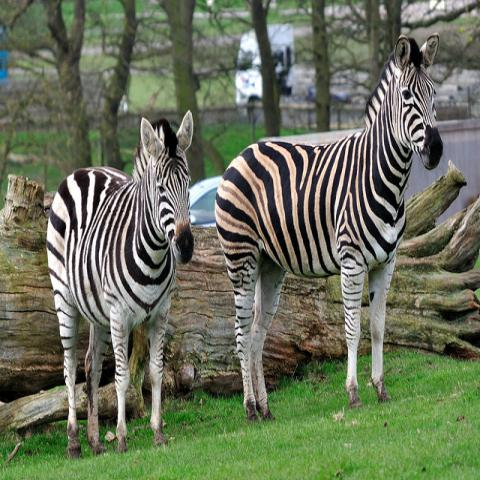truck: (235, 24, 352, 126)
